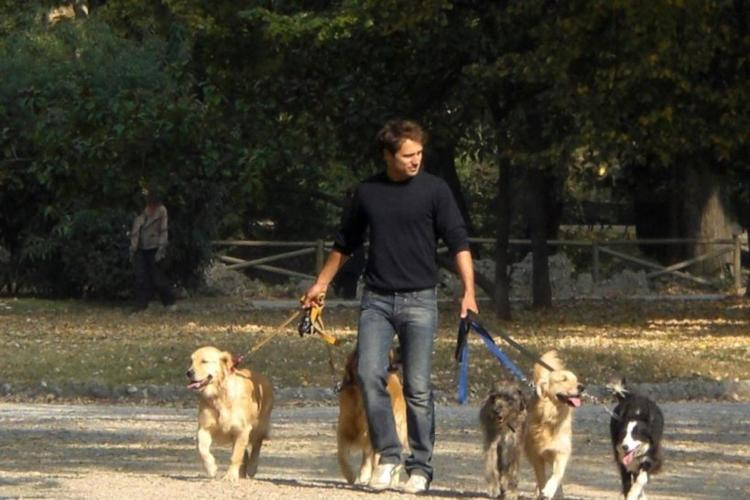person: (302, 124, 480, 491)
